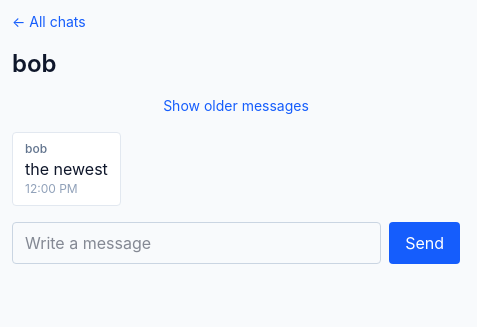
Test: shows older messages on request
The image size is (477, 327).
Expected: the text "the newest" is shown, [25, 157, 108, 181]
What coordinates should you click on to do the following:
click the button "Show older messages"
I would click on:
 (236, 106)
Its box is [12, 96, 460, 116].
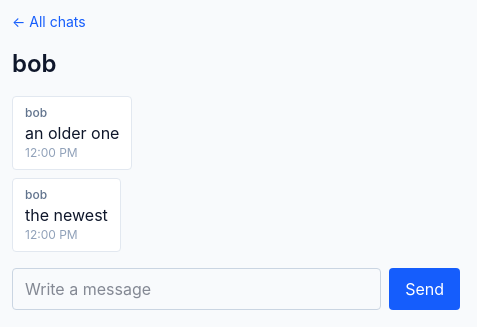
Expected: the text "an older one" is shown, [25, 121, 119, 145]
Expected: the button "Show older messages" is gone
